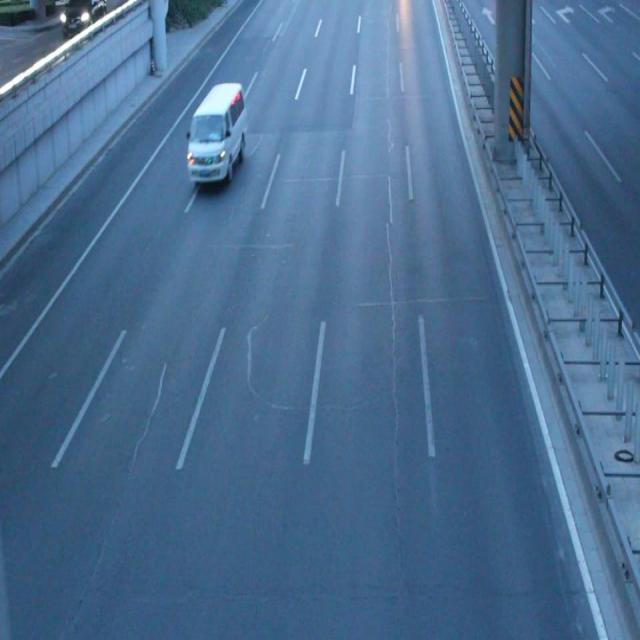truck: (185, 81, 245, 182)
